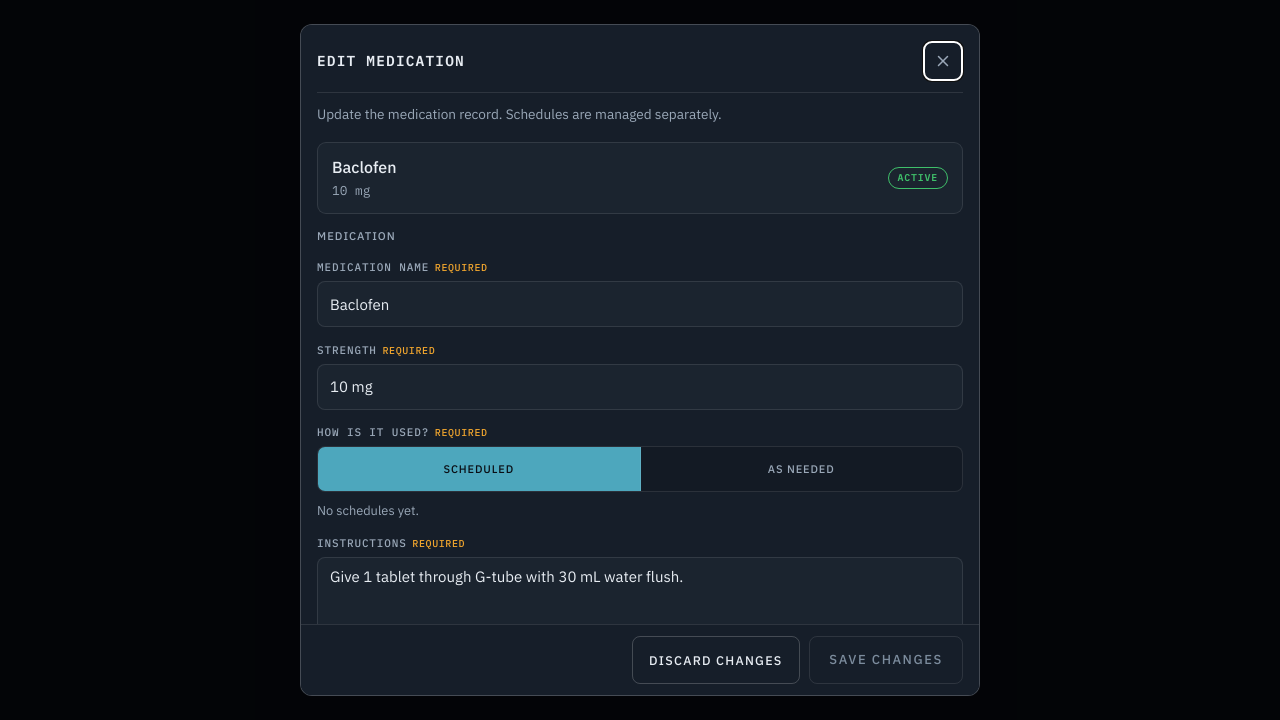
it: editing a medication › surfaces a save failure instead of closing quietly
This screenshot has width=1280, height=720.
Replace the text in the field labelled "Medication name Required" with "Baclofen ER". click: (640, 304)
box: top-left (317, 281), bottom-right (963, 327)
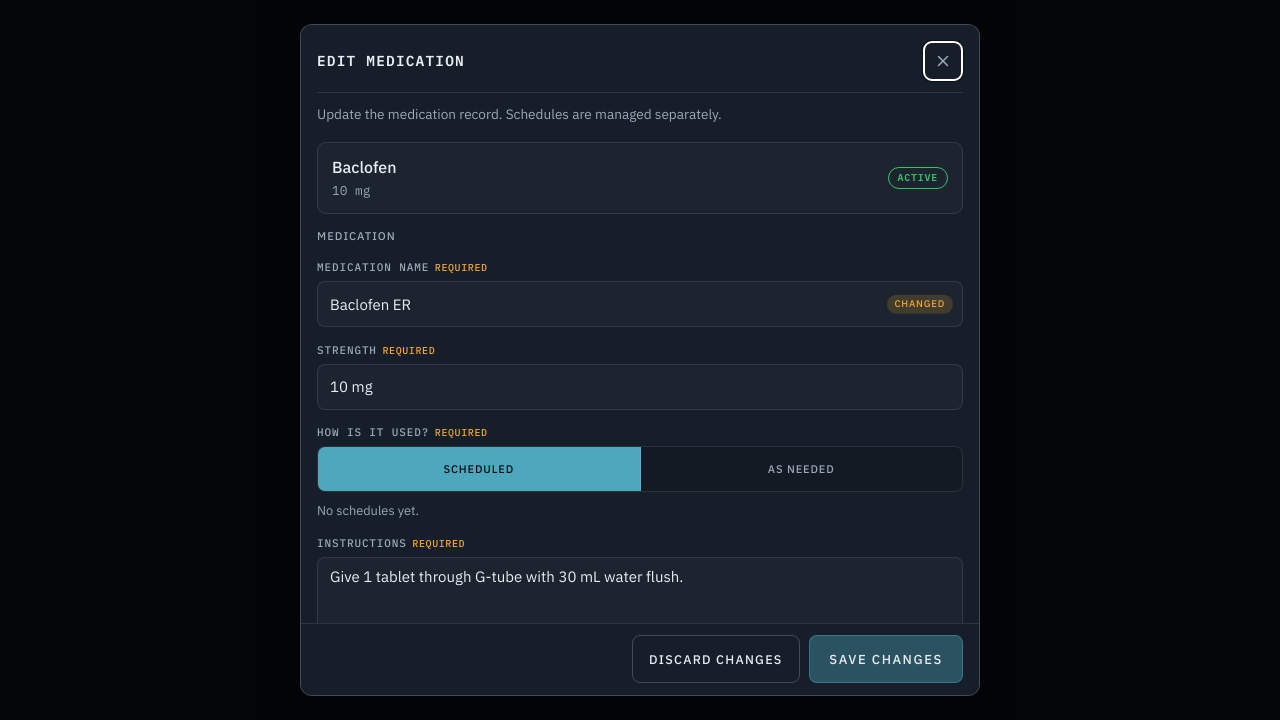
Click the button "Save changes". click: click(886, 660)
box: top-left (809, 636), bottom-right (963, 684)
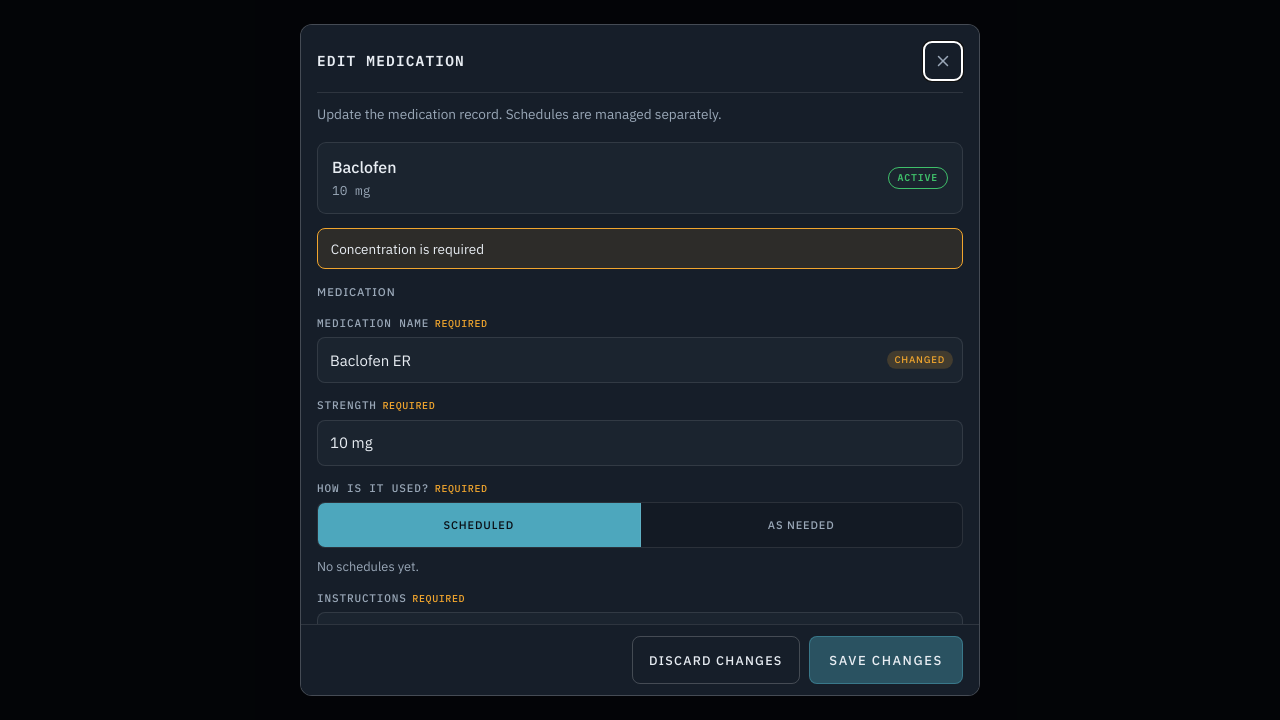
Expected: the text "Concentration is required" is shown, top-left (317, 228), bottom-right (963, 269)
